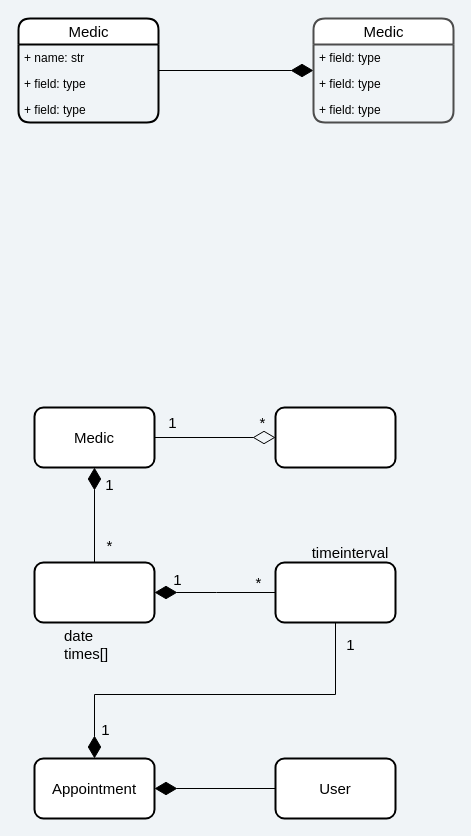
Image size: 471x836. Some labels were removed from this diagram. Here are the shapes that lost their labels. From the top down, the centre of each, then its label:
pixel 335 437: Specialty
pixel 94 592: DaySchedule
pixel 335 592: ScheduleTime
